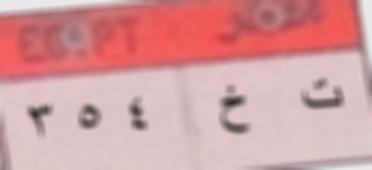3: (24, 99, 56, 148)
4: (124, 94, 152, 137)
5: (74, 102, 105, 140)
khaa: (215, 82, 258, 140)
taa: (295, 73, 350, 117)
